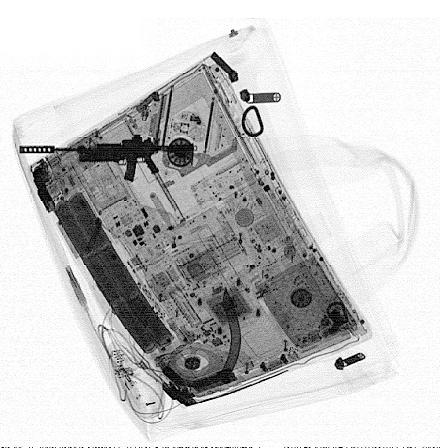Gun: (17, 131, 200, 183)
